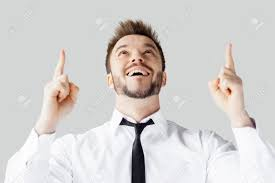hand: (202, 37, 258, 119), (40, 41, 87, 124)
